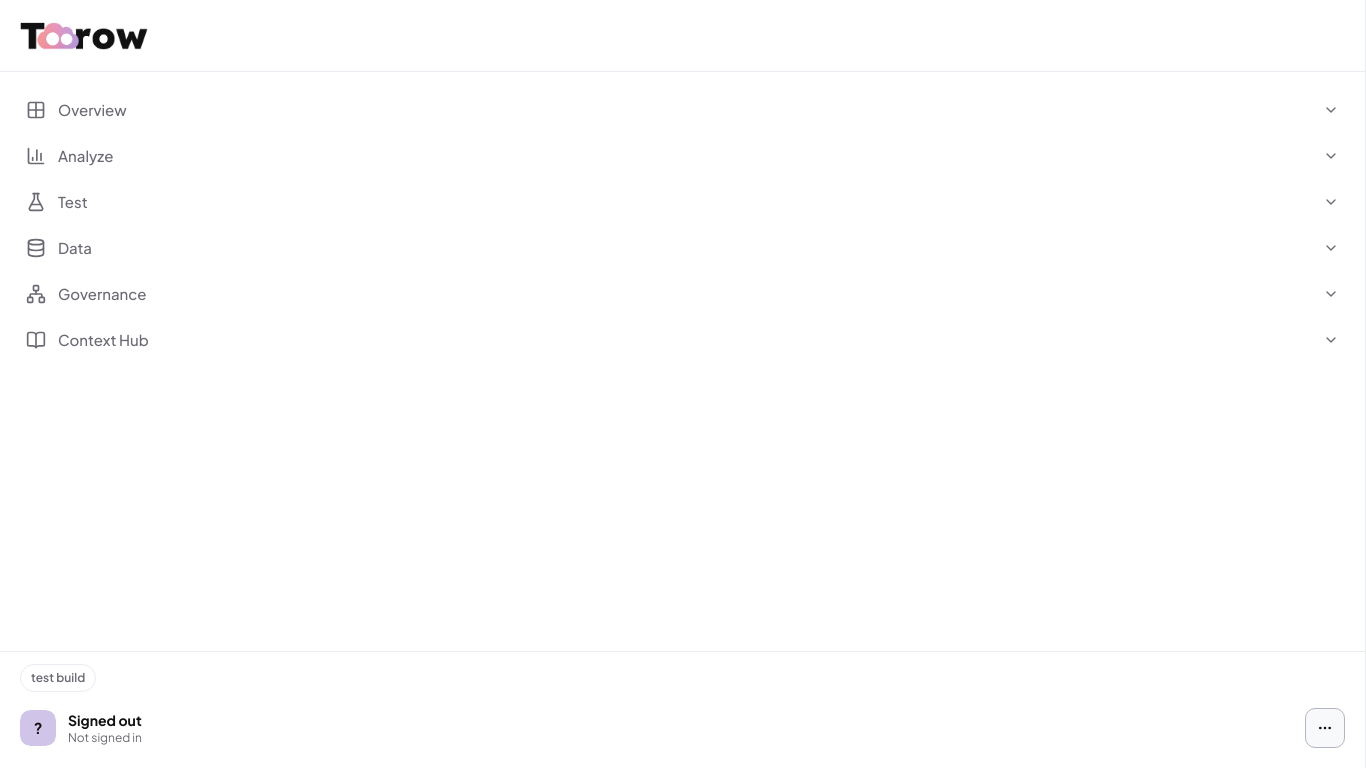
it: Appearance — the switch shows the page, the sentence shows the rule › is OFF on a light system and says it is following the system
Click the button named "Account menu": (1325, 728) [1305,708,1345,748]
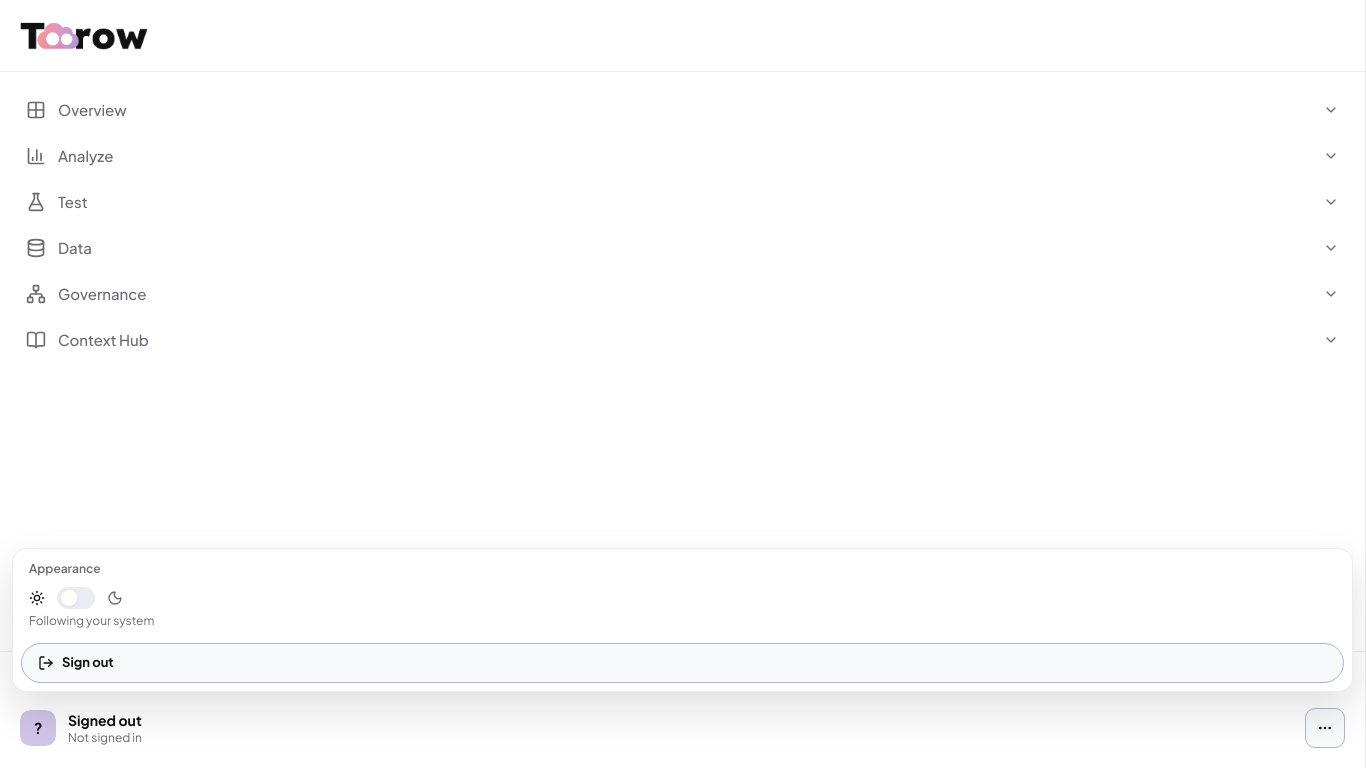
Result: the switch named "Dark theme" is not checked at [57,587,95,609]
Result: the text "Following your system" is shown at [29,613,154,628]
